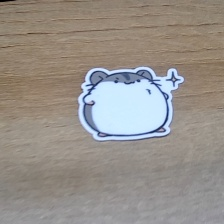mouse: (76, 63, 186, 146)
